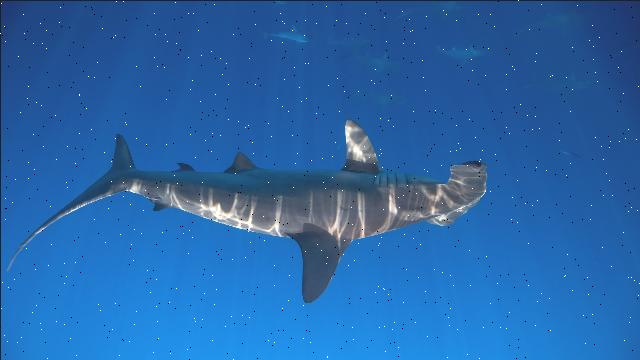Sirip Anal: (148, 151, 198, 224)
Sirip Dada: (327, 112, 389, 182)
Sirip Ekor: (4, 124, 138, 278)
Sirip Perut: (223, 140, 261, 182)
Sirip Punggung: (290, 219, 354, 315)
